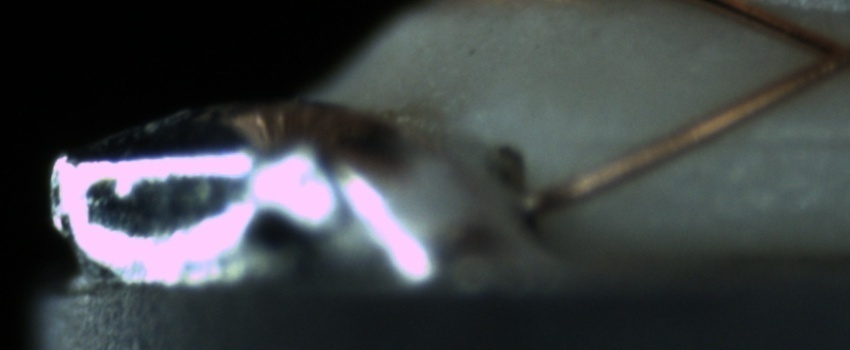CL: (794, 26, 850, 86)
DL: (610, 105, 848, 176)
